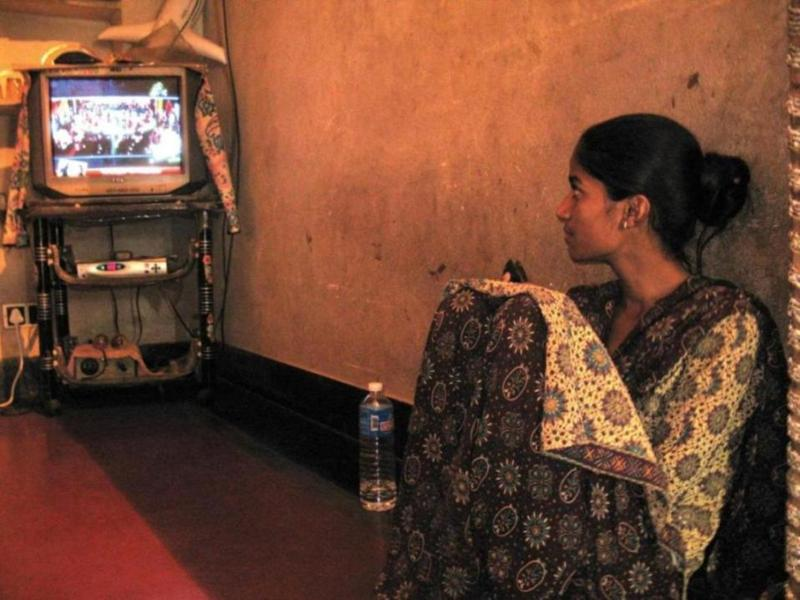person: (424, 115, 768, 594)
